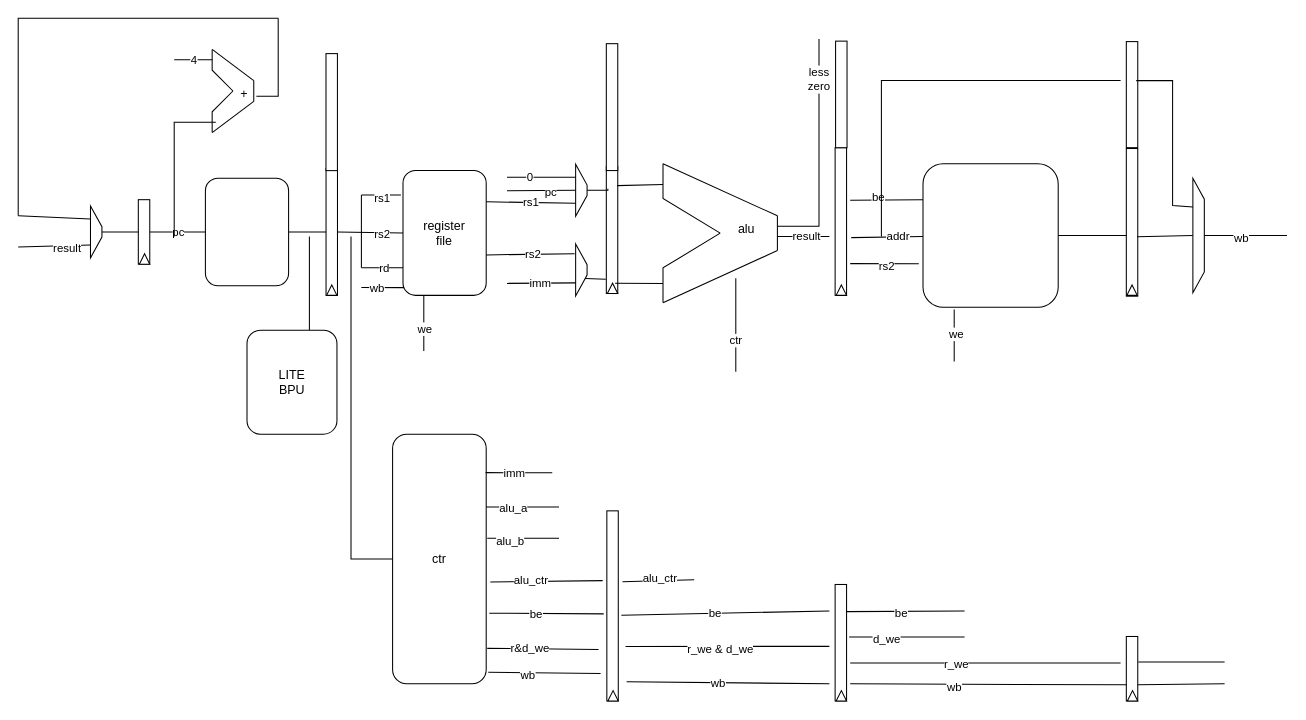
Some shapes in this 1306 by 720 pixel diagram are drawn without their labels. Each missing label, with the box of its shape:
data memory: (922, 163, 1058, 307)
instr mem: (204, 177, 289, 286)
